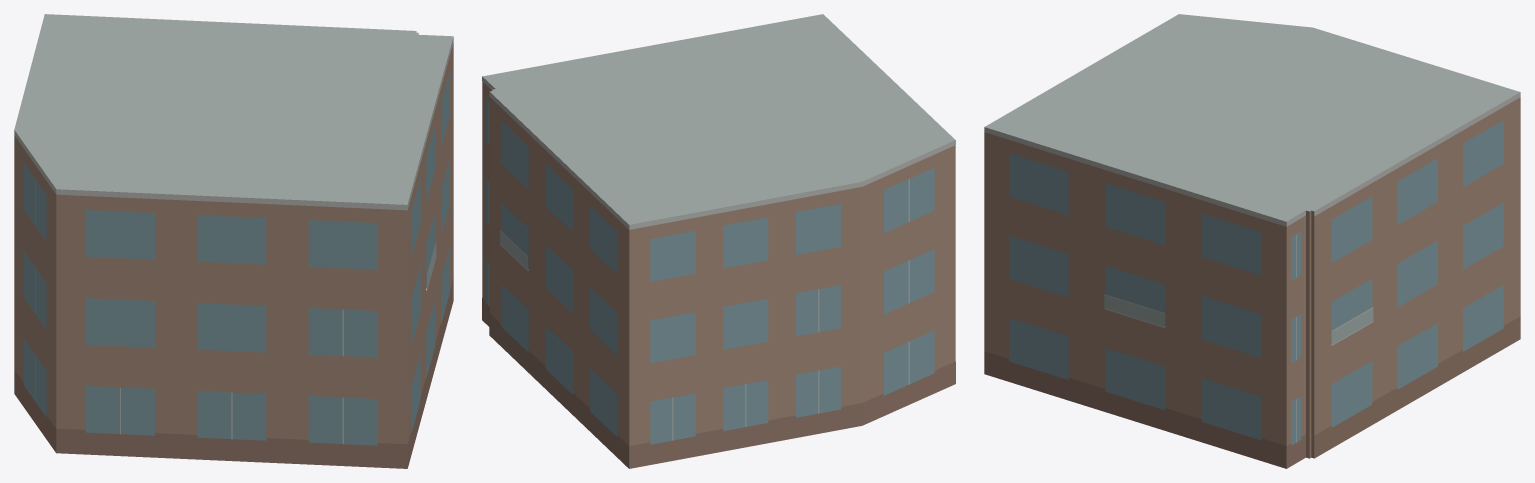
Rendered from survey-upis-32471896.glb.
The picture shows the model from 3 angles, left to right: view 1: azimuth 30°, elevation 25°; view 2: azimuth 150°, elevation 25°; view 3: azimuth 270°, elevation 25°; orthographic projection. The views are drawn at different scales.
Parts seen in each view (by area): view 1: survey-upis-32471896.tmp; view 2: survey-upis-32471896.tmp; view 3: survey-upis-32471896.tmp.
Part boxes in pixels (x1=…): survey-upis-32471896.tmp: x1=14, y1=14, x2=453, y2=468; survey-upis-32471896.tmp: x1=482, y1=14, x2=955, y2=468; survey-upis-32471896.tmp: x1=984, y1=14, x2=1520, y2=468.
Size of the model in its own units: 21.63 by 11.99 by 23.59.
